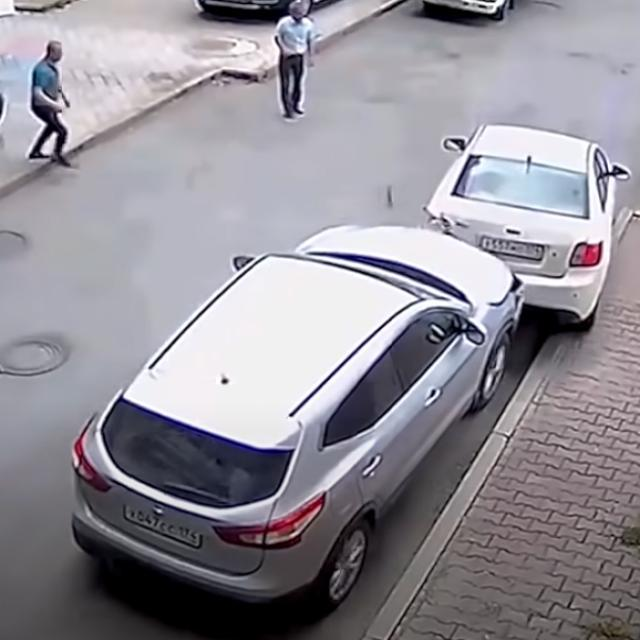accident: (72, 121, 632, 623)
